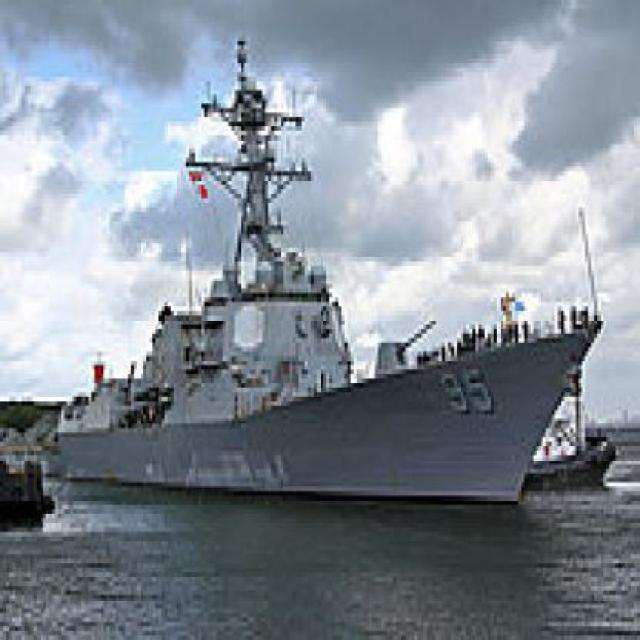warship2: (56, 32, 608, 529)
